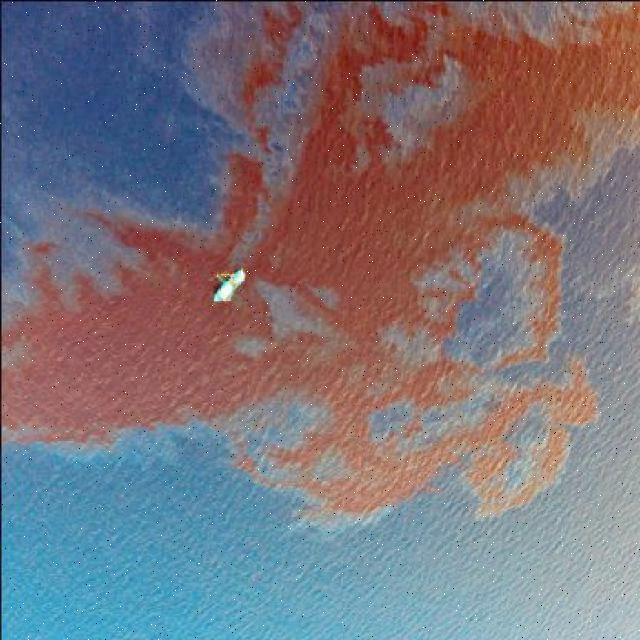oil: (5, 192, 585, 526), (169, 1, 640, 188)
